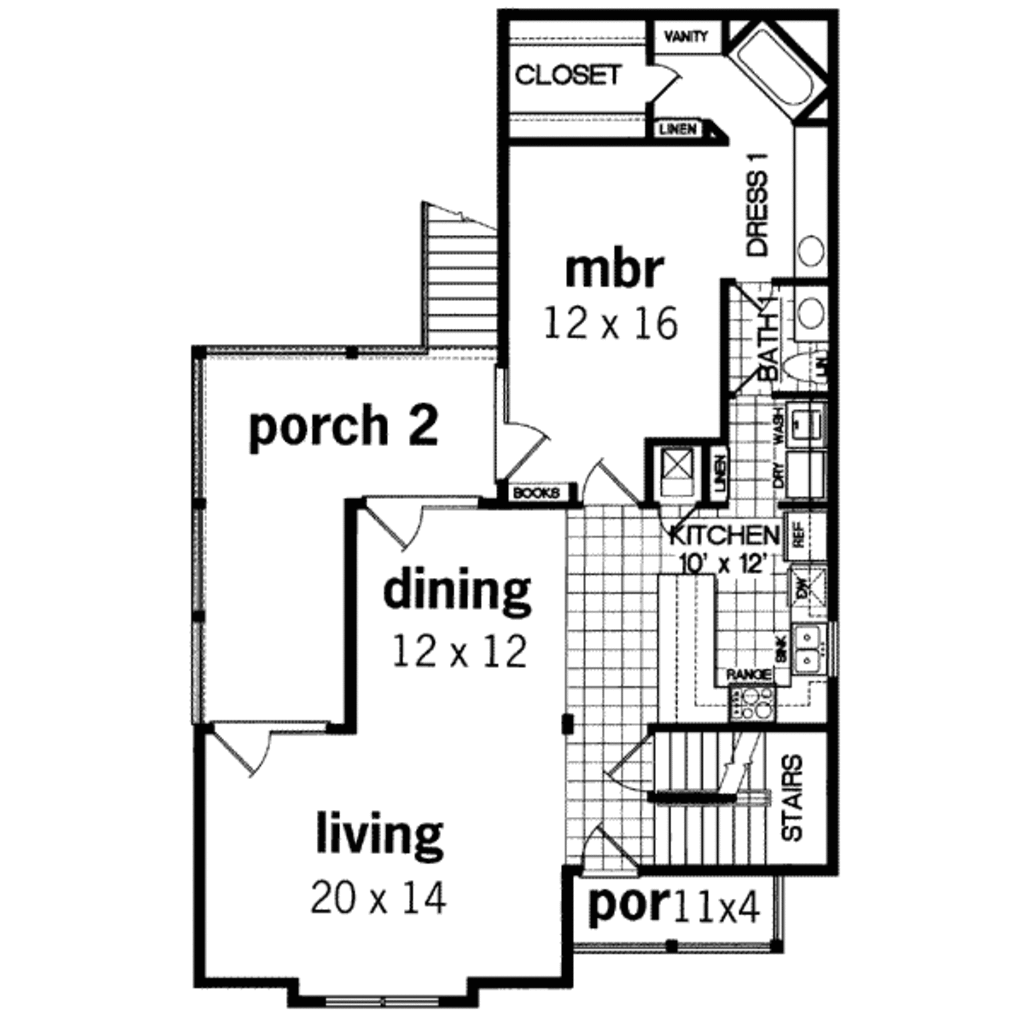coffee_table: (660, 445, 696, 479)
door: (359, 496, 428, 551), (209, 720, 271, 776), (580, 457, 640, 514), (576, 822, 640, 874), (603, 743, 662, 795), (498, 421, 547, 480), (645, 61, 686, 108)
stairs: (648, 731, 777, 867), (416, 197, 502, 350)
tub: (725, 21, 824, 119)
twin_sink: (791, 623, 825, 678)
windows: (322, 988, 442, 1010)
